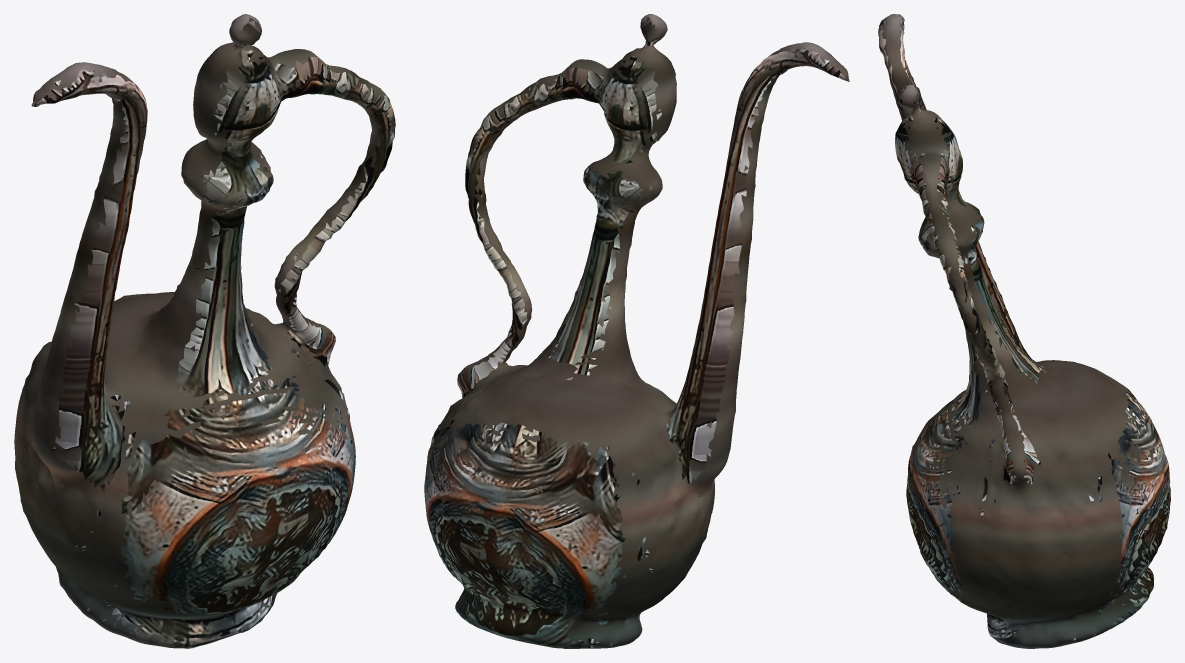
The model's file is kfl-2240.glb.
3 renders of one model, left to right at view 1: azimuth 30°, elevation 25°; view 2: azimuth 150°, elevation 25°; view 3: azimuth 270°, elevation 25°, orthographic. The views are drawn at different scales.
Visible parts, largest first — view 1: kfl-2240; view 2: kfl-2240; view 3: kfl-2240.
Part boxes in pixels (left/top/right/bottom): kfl-2240: left=14, top=14, right=395, bottom=648; kfl-2240: left=424, top=14, right=849, bottom=648; kfl-2240: left=878, top=14, right=1170, bottom=648.
Bounding box in the file's own units: 0.6222 × 0.9917 × 0.4896.
4 materials, 4 textured.
